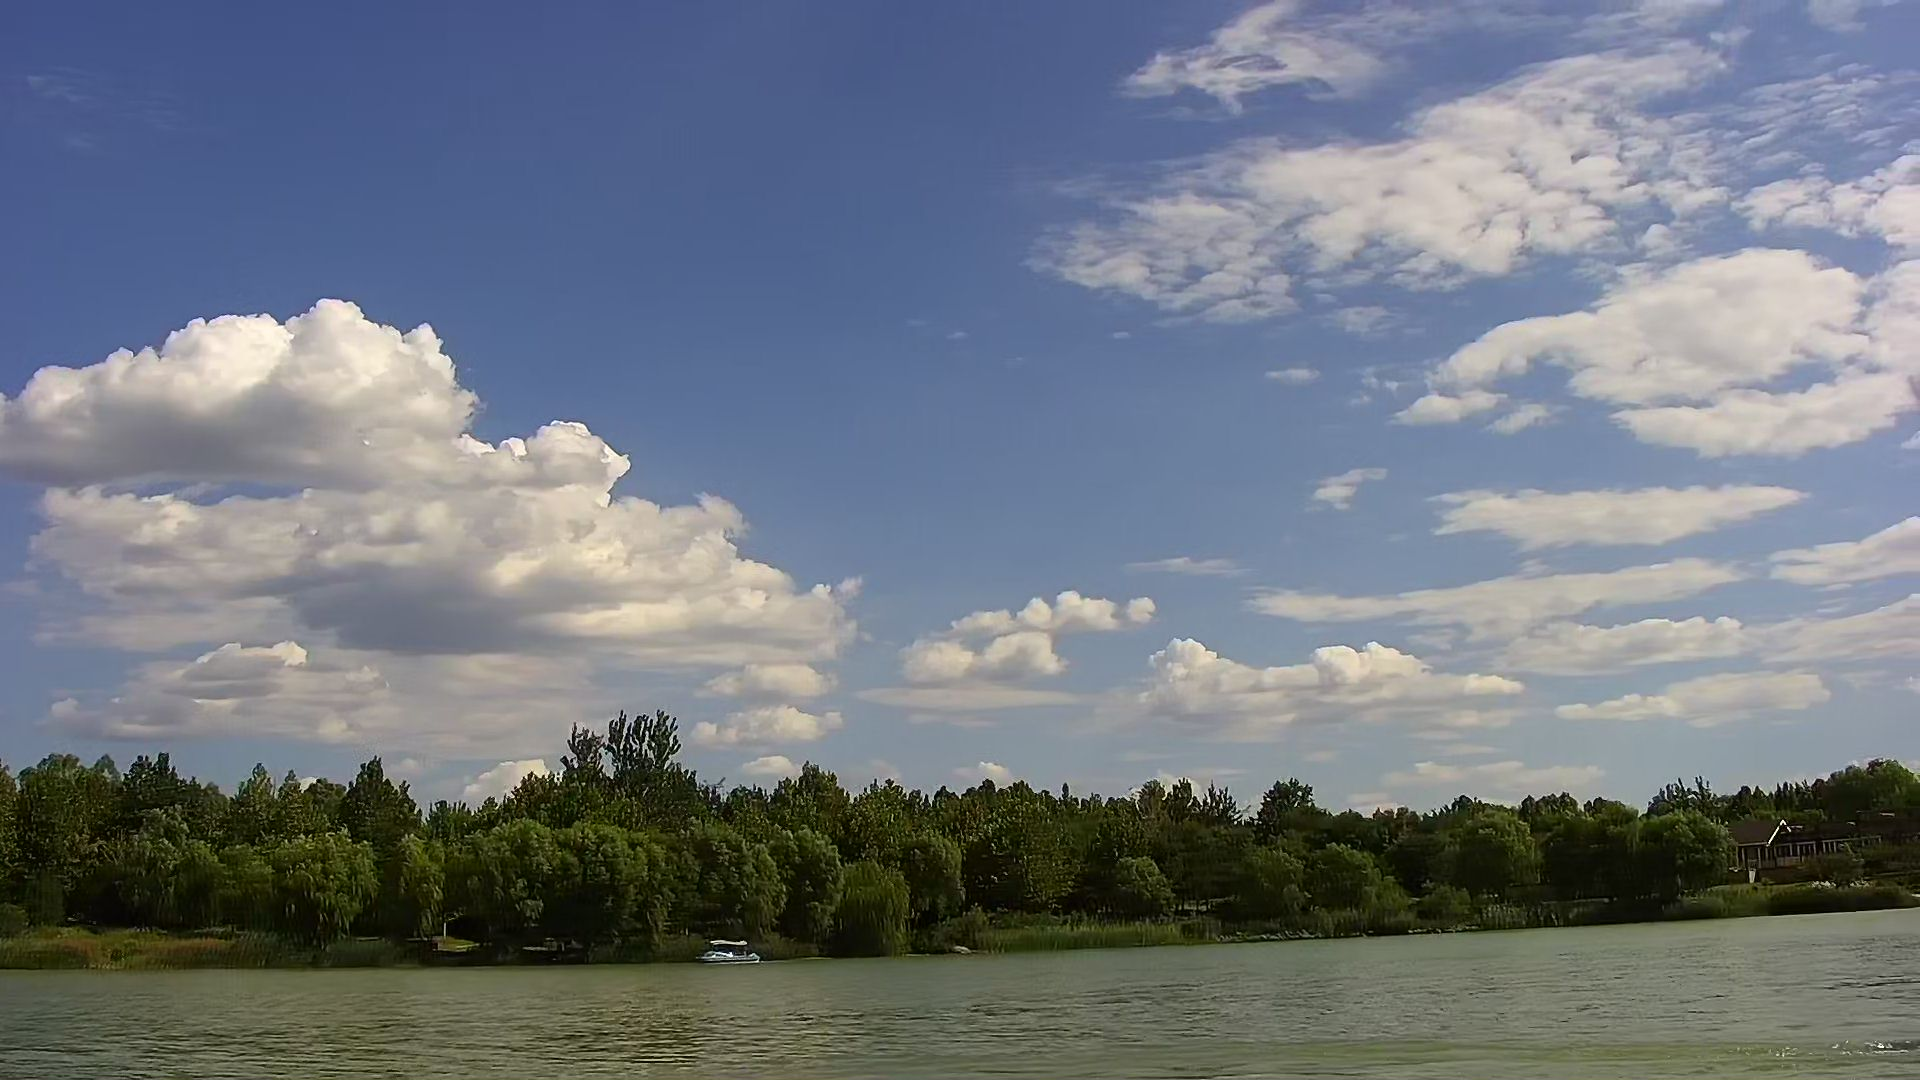boat: (691, 936, 762, 971)
